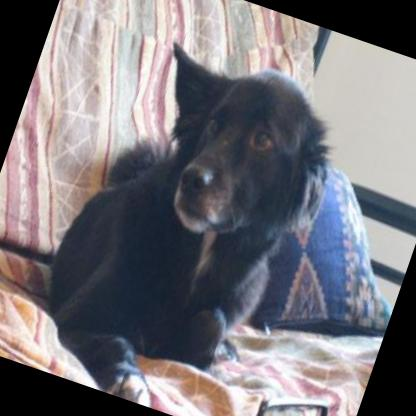Border_collie: (19, 16, 360, 416)
